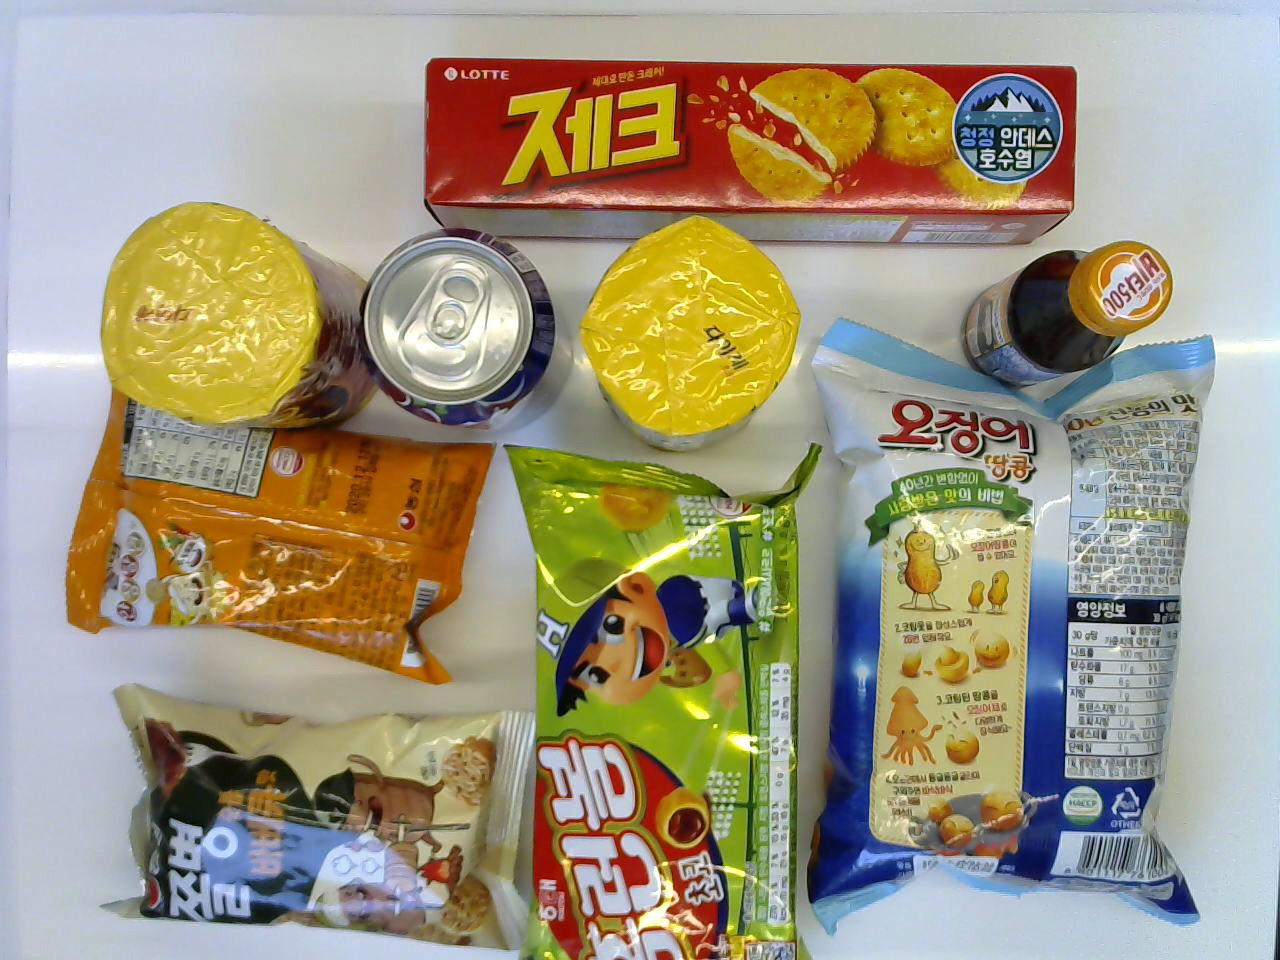diget_choco: (98, 204, 388, 426)
diget_ori: (580, 209, 801, 452)
homerunball: (498, 444, 803, 960)
jjolbyung_noodle: (58, 396, 493, 692)
jjolbyung_ori: (98, 687, 538, 953)
squid_peanut: (812, 316, 1212, 939)
vita500: (959, 239, 1174, 390)
welchs: (360, 221, 564, 437)
zec: (425, 53, 1072, 242)
